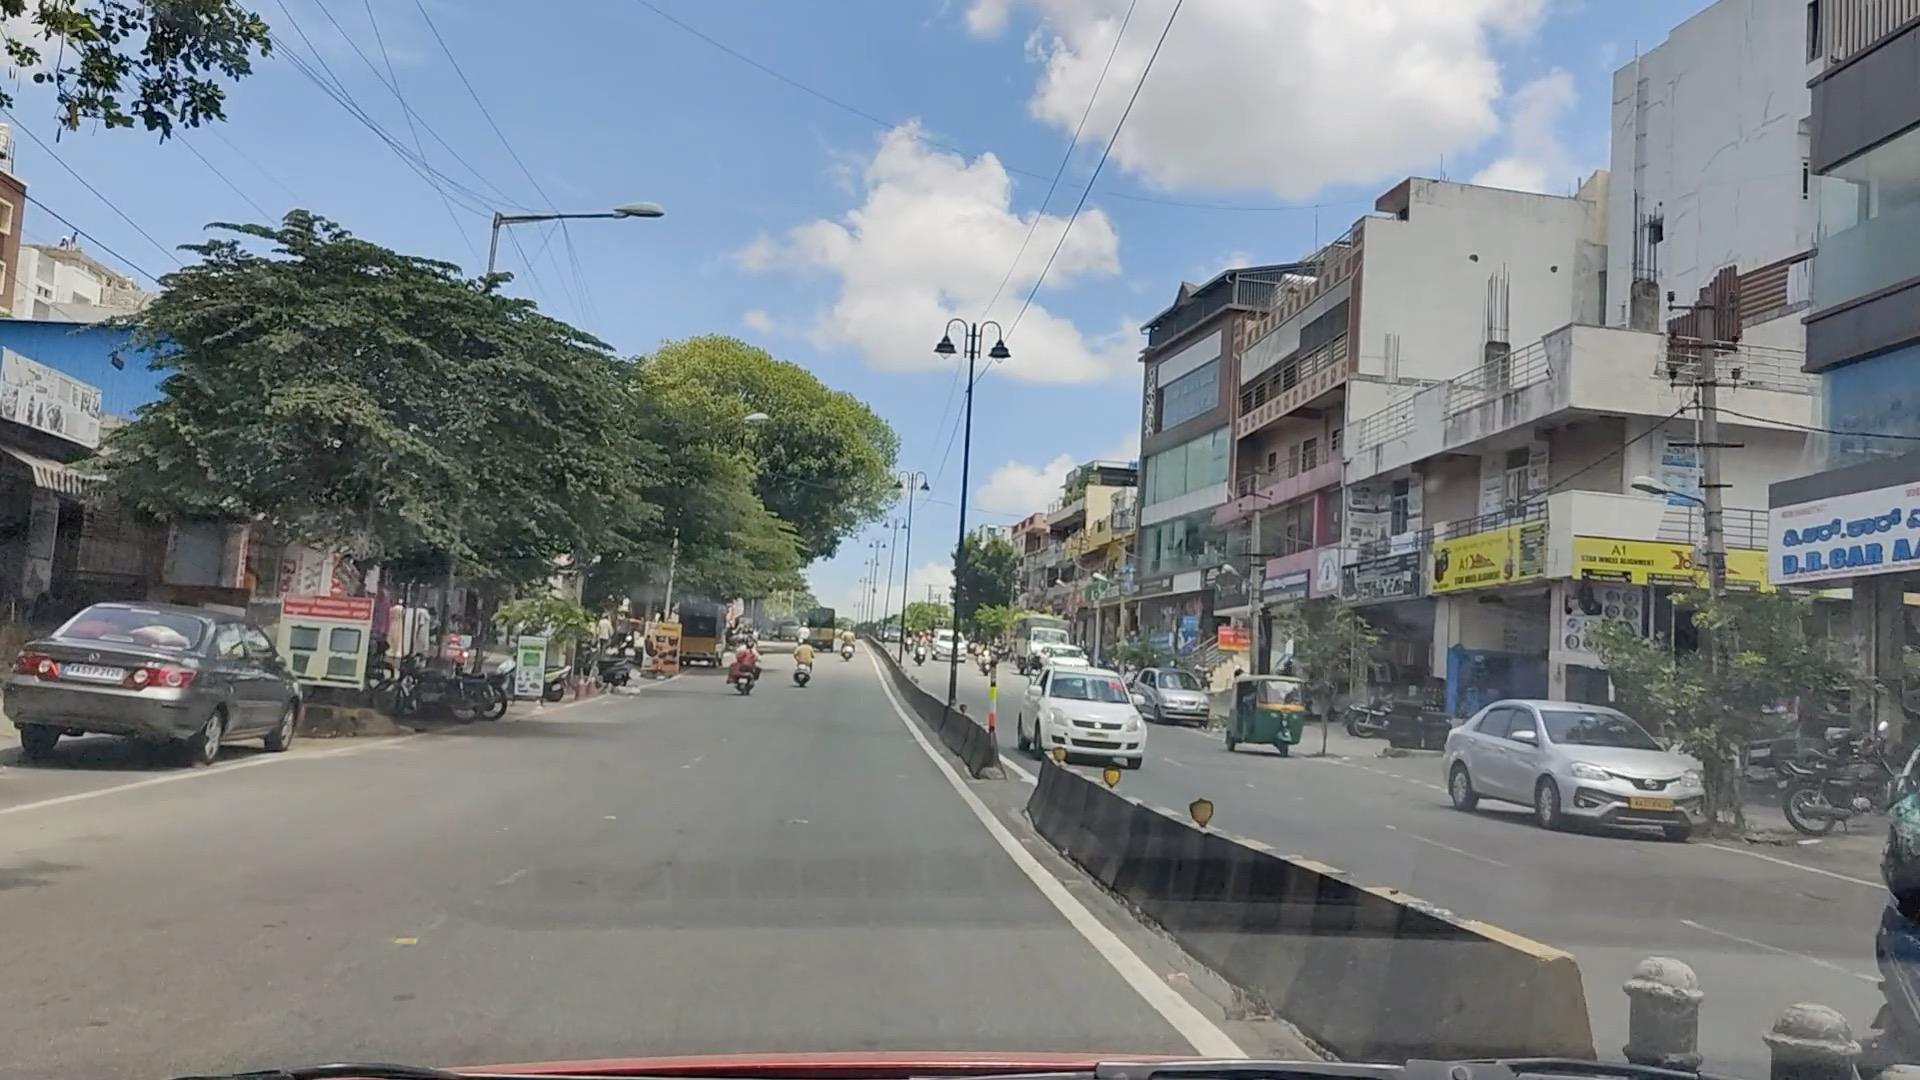LMV: (20, 587, 229, 749), (1030, 650, 1134, 756), (720, 613, 770, 699)
